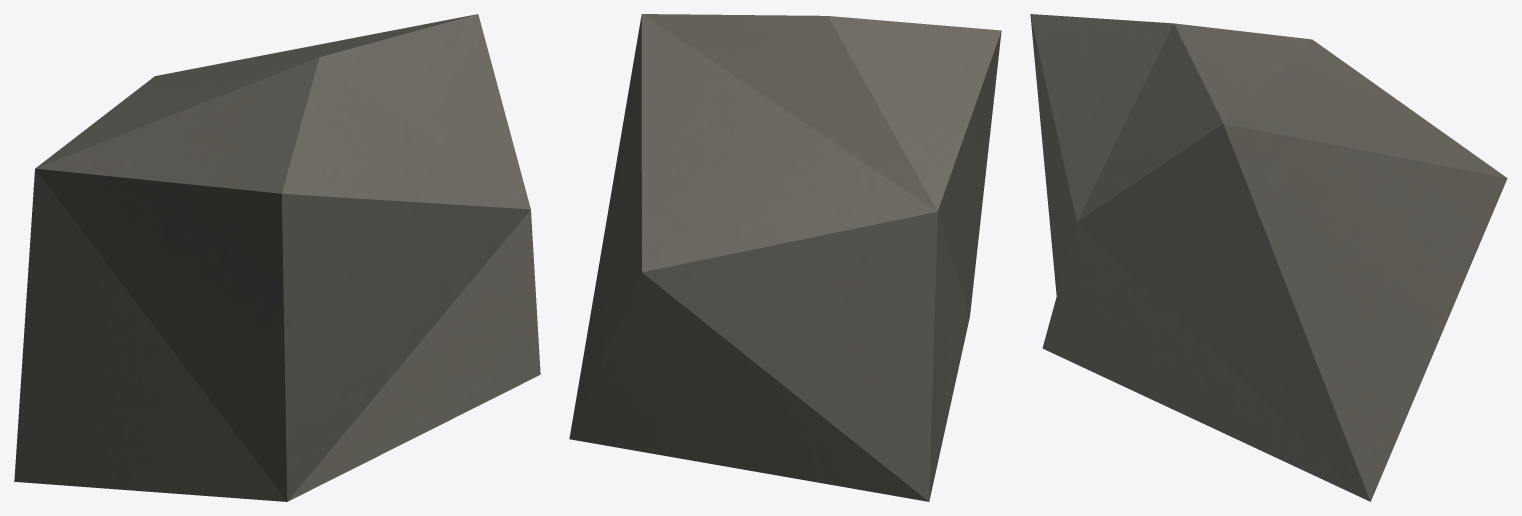
Rendered from Rock_Single_1C.fbx.
3 views of the same model, side by side, from view 1: azimuth 30°, elevation 25°; view 2: azimuth 150°, elevation 25°; view 3: azimuth 270°, elevation 25° (orthographic). The views are drawn at different scales.
Visible parts, largest first — view 1: pCube18; view 2: pCube18; view 3: pCube18.
Boxes of the visible parts, <box> form: pCube18: <box>14,14,540,501</box>; pCube18: <box>569,14,1001,501</box>; pCube18: <box>1030,14,1507,501</box>.
Bounding box in the file's own units: 49.18 × 53.48 × 58.06.
1 material, 1 textured.
